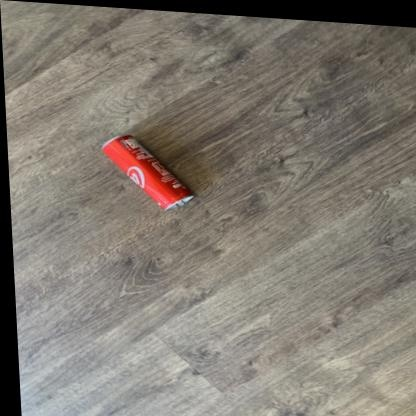trash: (102, 135, 192, 208)
